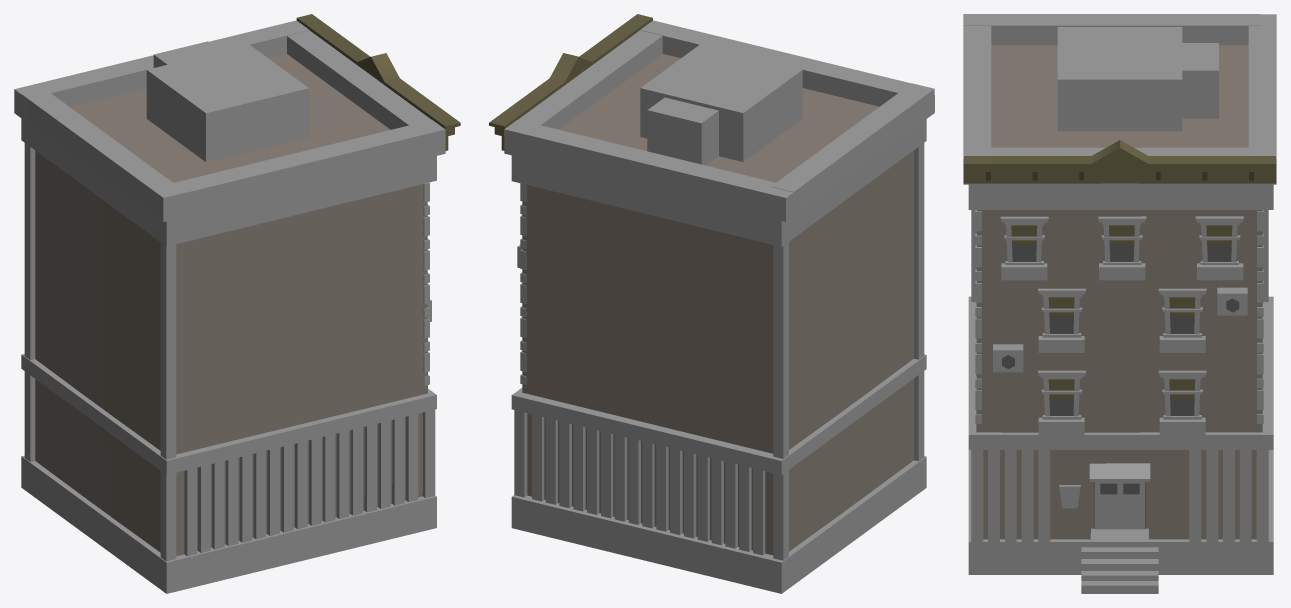
The model's file is city_house_1.fbx.
The picture shows the model from 3 angles, left to right: view 1: azimuth 30°, elevation 25°; view 2: azimuth 150°, elevation 25°; view 3: azimuth 270°, elevation 25°; orthographic projection. The views are drawn at different scales.
Parts seen in each view (by area): view 1: dark, base_walls1, decor; view 2: dark, base_walls1, decor; view 3: dark, base_walls1, decor, glass2, stairs.
Boxes of the visible parts, bbox=[...] form: dark: bbox=[14, 20, 445, 593]; base_walls1: bbox=[35, 54, 427, 555]; decor: bbox=[296, 14, 460, 150]; dark: bbox=[504, 20, 934, 593]; base_walls1: bbox=[522, 54, 913, 555]; decor: bbox=[489, 14, 652, 150]; dark: bbox=[963, 14, 1276, 574]; base_walls1: bbox=[976, 45, 1262, 539]; decor: bbox=[964, 140, 1275, 398]; glass2: bbox=[1002, 245, 1239, 528]; stairs: bbox=[1081, 547, 1158, 593].
Size of the model in its own units: 795 by 1041 by 654.
